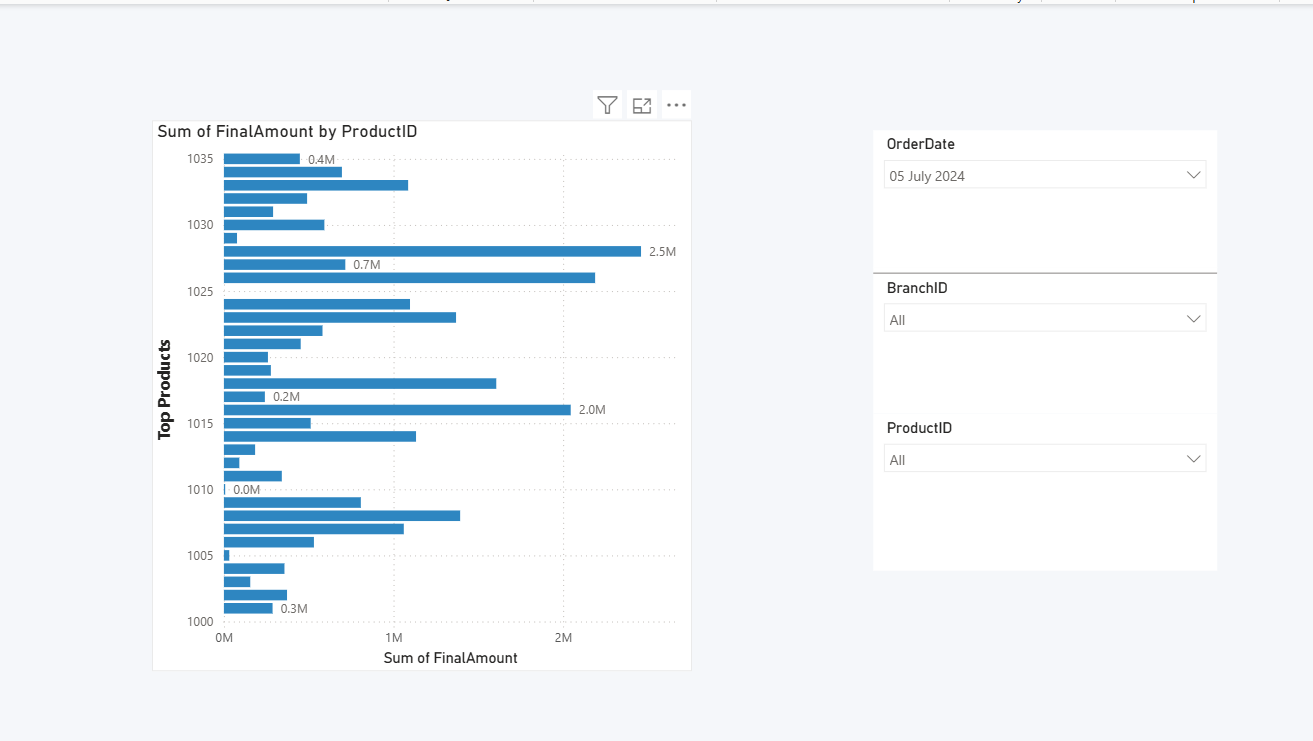

What the dashboard file says about the page in this screenshot:
{"tool":"powerbi","page":{"name":"Page 2","canvas":[1280,720],"ordinal":1},"visuals":[{"type":"clusteredBarChart","fields":{"Y":["Sum(sales_export.FinalAmount)"],"Category":["sales_export.ProductID"]},"box":[149.6,112.2,521.2,532],"z":1},{"type":"slicer","fields":{"Values":["sales_export.OrderDate"]},"box":[845.7,121.9,331.8,132.7],"z":2},{"type":"slicer","fields":{"Values":["sales_export.BranchID"]},"box":[845.7,254.6,331.8,141.2],"z":3},{"type":"slicer","fields":{"Values":["sales_export.ProductID"]},"box":[845.7,395.7,331.8,150.8],"z":4}]}

Visuals, with their boxes on the page's 1280x720 design canvas (x1, y1, x2, y2). These are canvas units, not pixel positions in the 1313x741 screenshot, which may show the page scaled, cropped or inside an application window:
clusteredBarChart - Sum(sales_export.FinalAmount) x sales_export.ProductID: [x1=150, y1=112, x2=671, y2=644]
slicer - sales_export.OrderDate: [x1=846, y1=122, x2=1178, y2=255]
slicer - sales_export.BranchID: [x1=846, y1=255, x2=1178, y2=396]
slicer - sales_export.ProductID: [x1=846, y1=396, x2=1178, y2=546]
